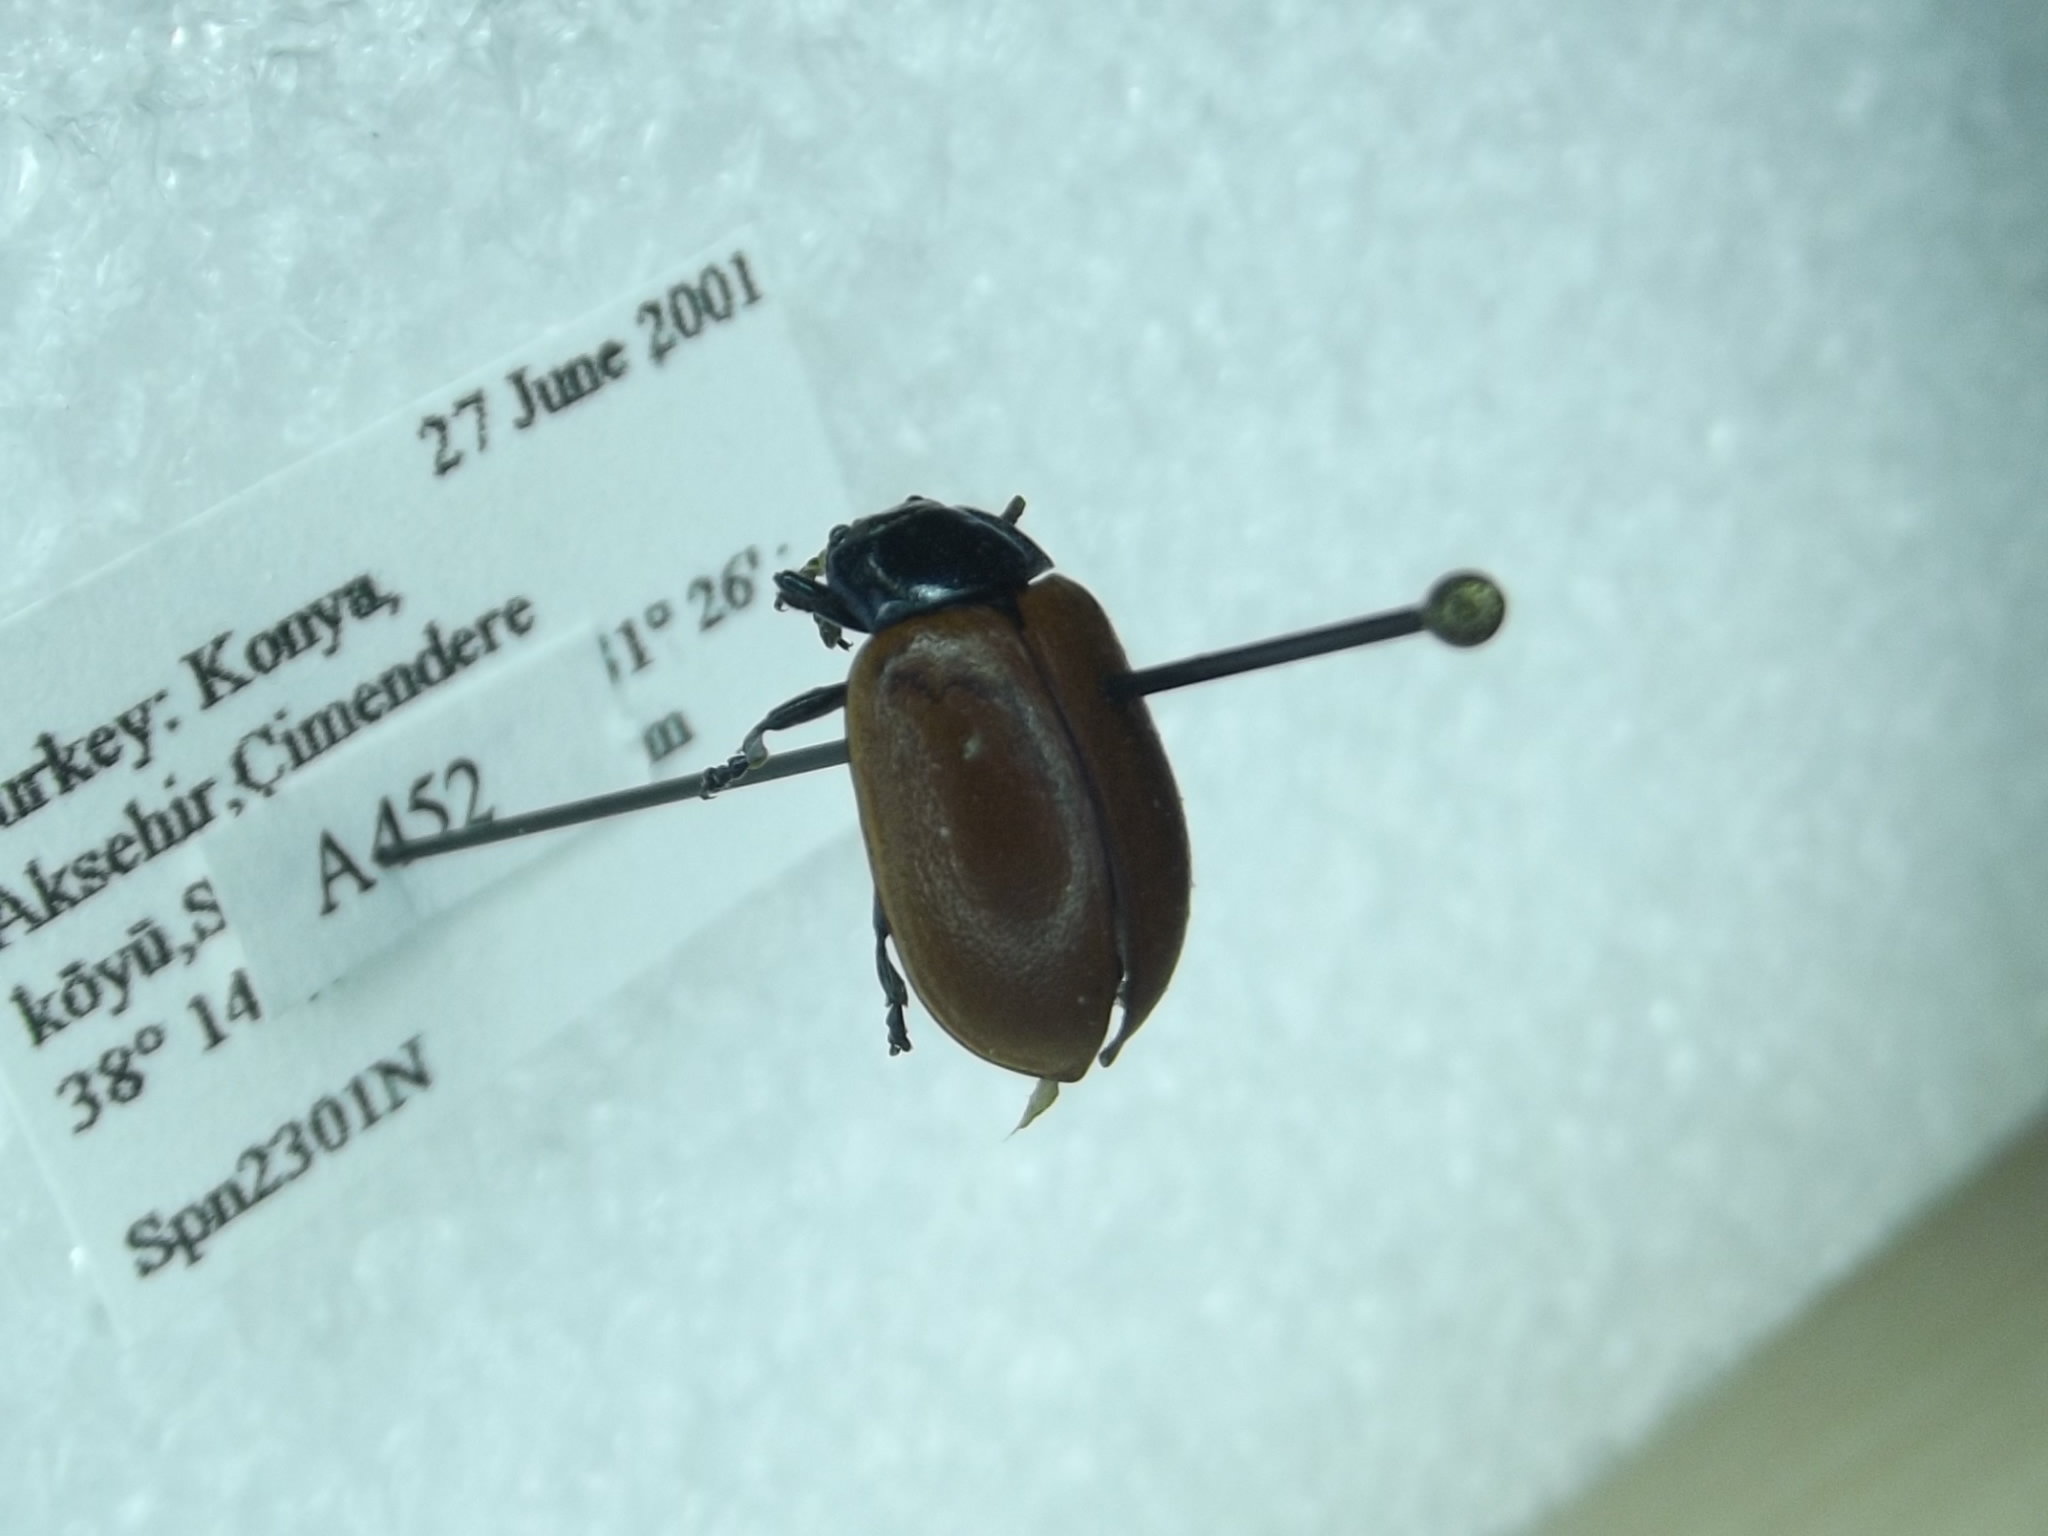Chrysomela_populi: (682, 474, 1205, 1146)
